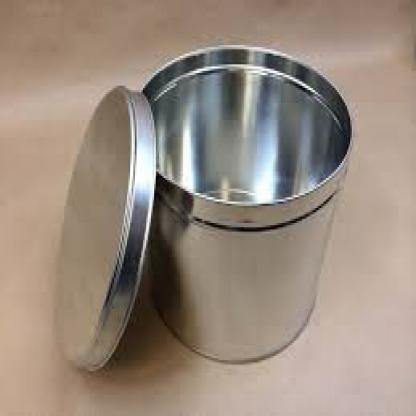METAL: (140, 43, 352, 362), (54, 83, 158, 368)
